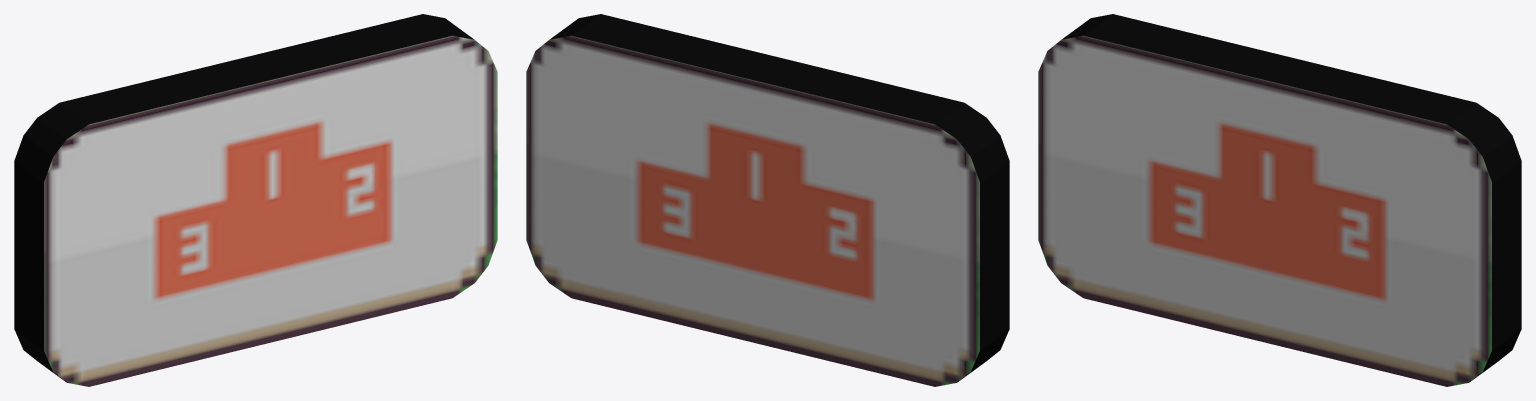
The model's file is icon1.fbx.
The picture shows the model from 3 angles, left to right: view 1: azimuth 30°, elevation 25°; view 2: azimuth 150°, elevation 25°; view 3: azimuth 330°, elevation 25°; orthographic projection.
Visible parts, largest first — view 1: icon001_black_0; view 2: icon001_black_0; view 3: icon001_black_0.
Boxes of the visible parts, bbox=[...] form: icon001_black_0: bbox=[14, 14, 497, 386]; icon001_black_0: bbox=[526, 14, 1009, 386]; icon001_black_0: bbox=[1038, 14, 1521, 386].
Bounding box in the file's own units: 17.69 × 9.78 × 2.
